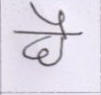ai_matra: (30, 4, 74, 33)
